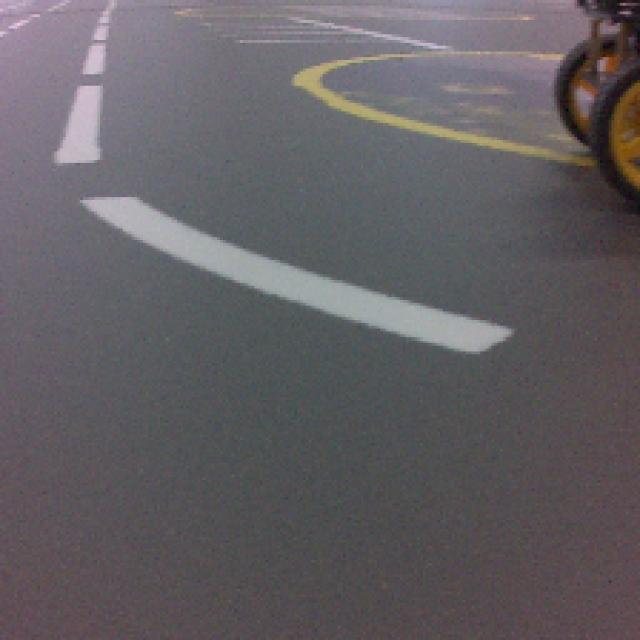Road: (0, 374, 572, 638)
